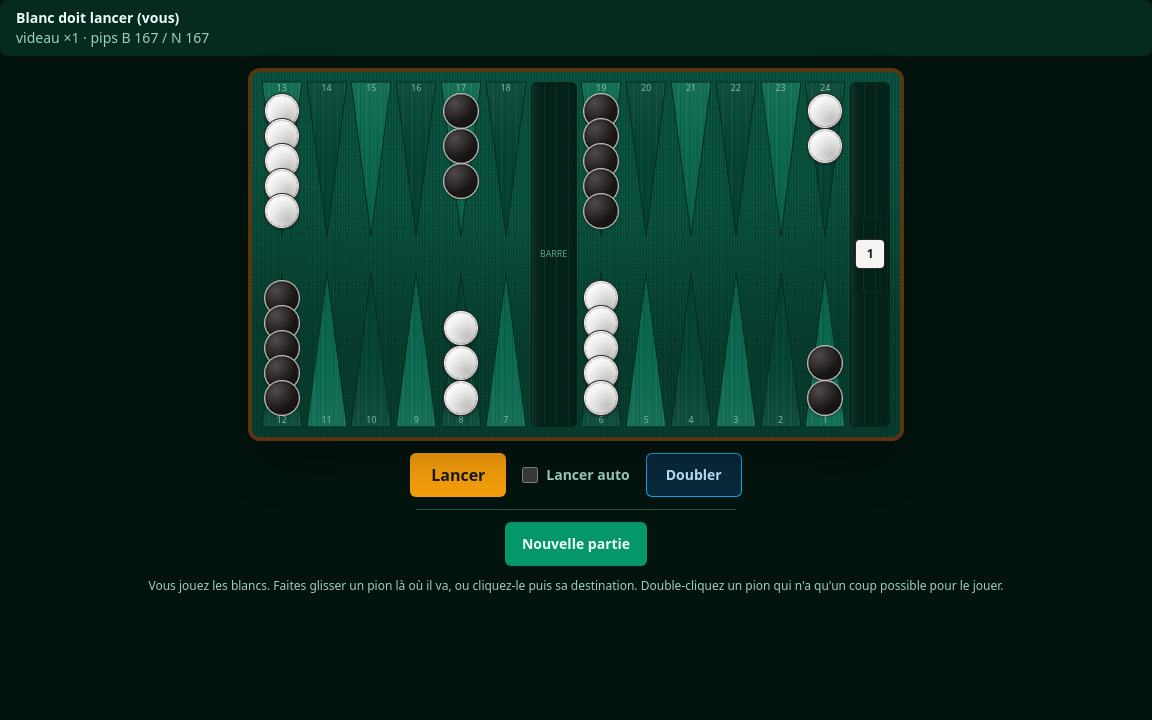
LocalPanel › starts a new game only after the tap is confirmed
Note: A single (possibly stray) tap only arms the button.
What coordinates should you click on to do the following:
click the button "Nouvelle partie"
I would click on:
 (576, 544)
Its box is [505,522,647,566].
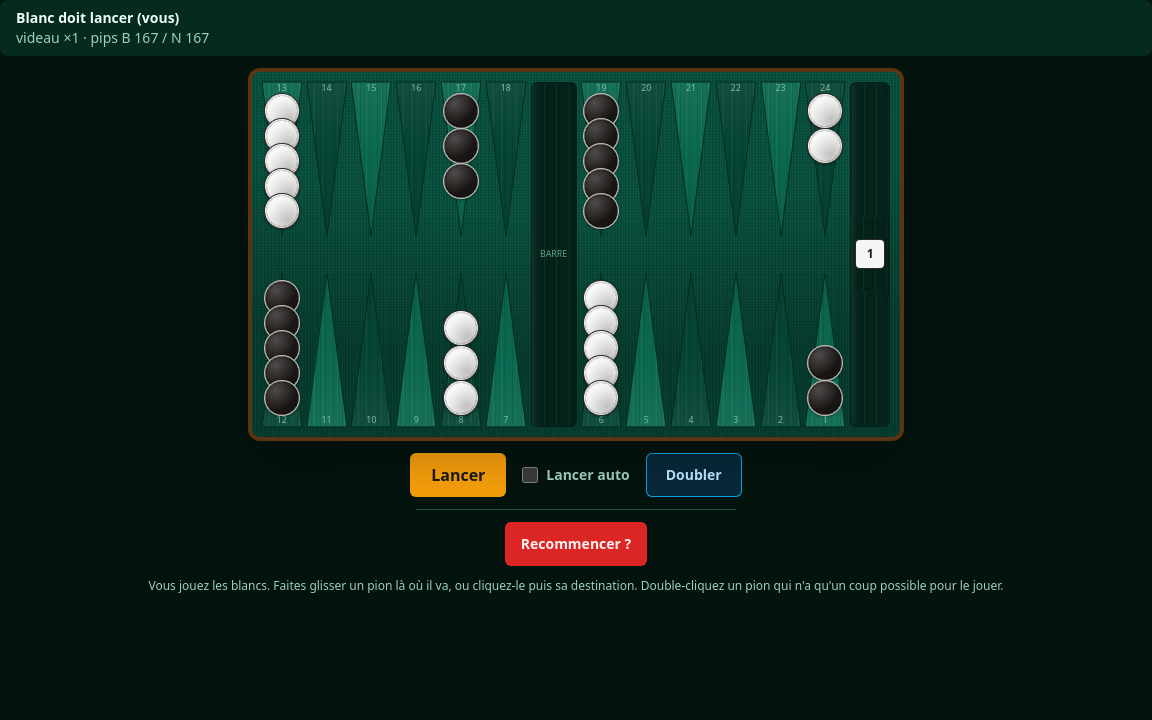
Now the button with aria-label "nouvelle partie" reads "Recommencer ?"
What coordinates should you click on to do the following:
click the button with aria-label "nouvelle partie"
I would click on:
 (576, 544)
Its box is [505,522,647,566].
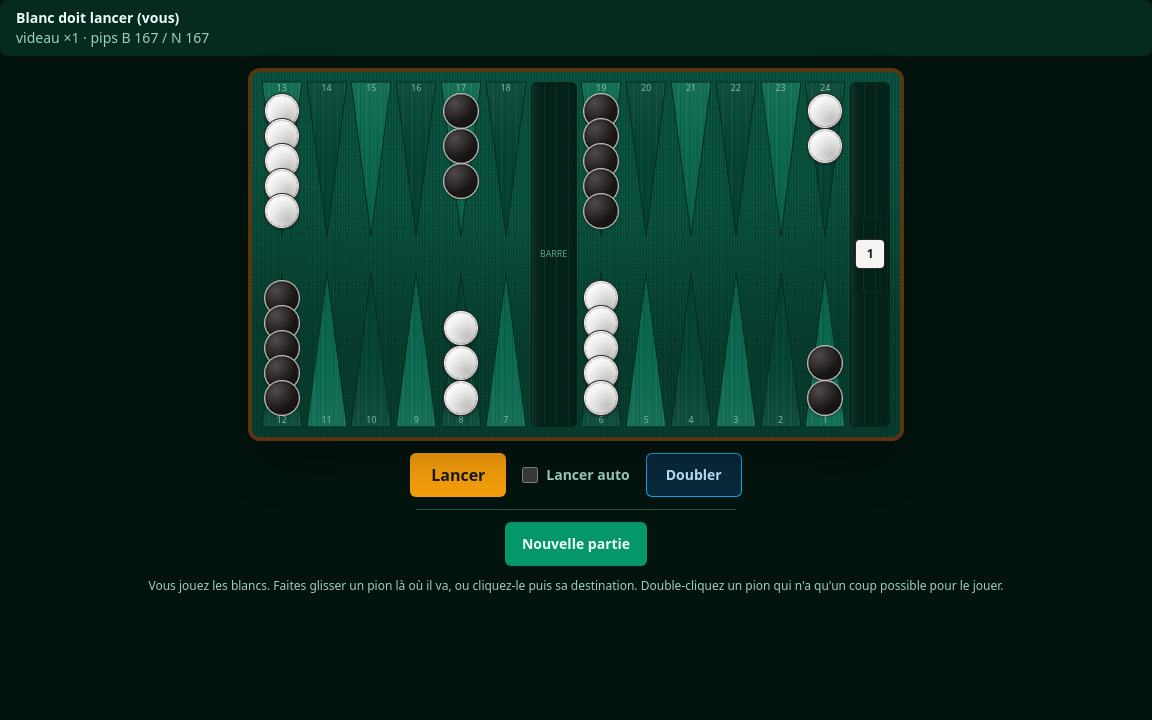
Now the button "Nouvelle partie" is shown, box [505,522,647,566]
